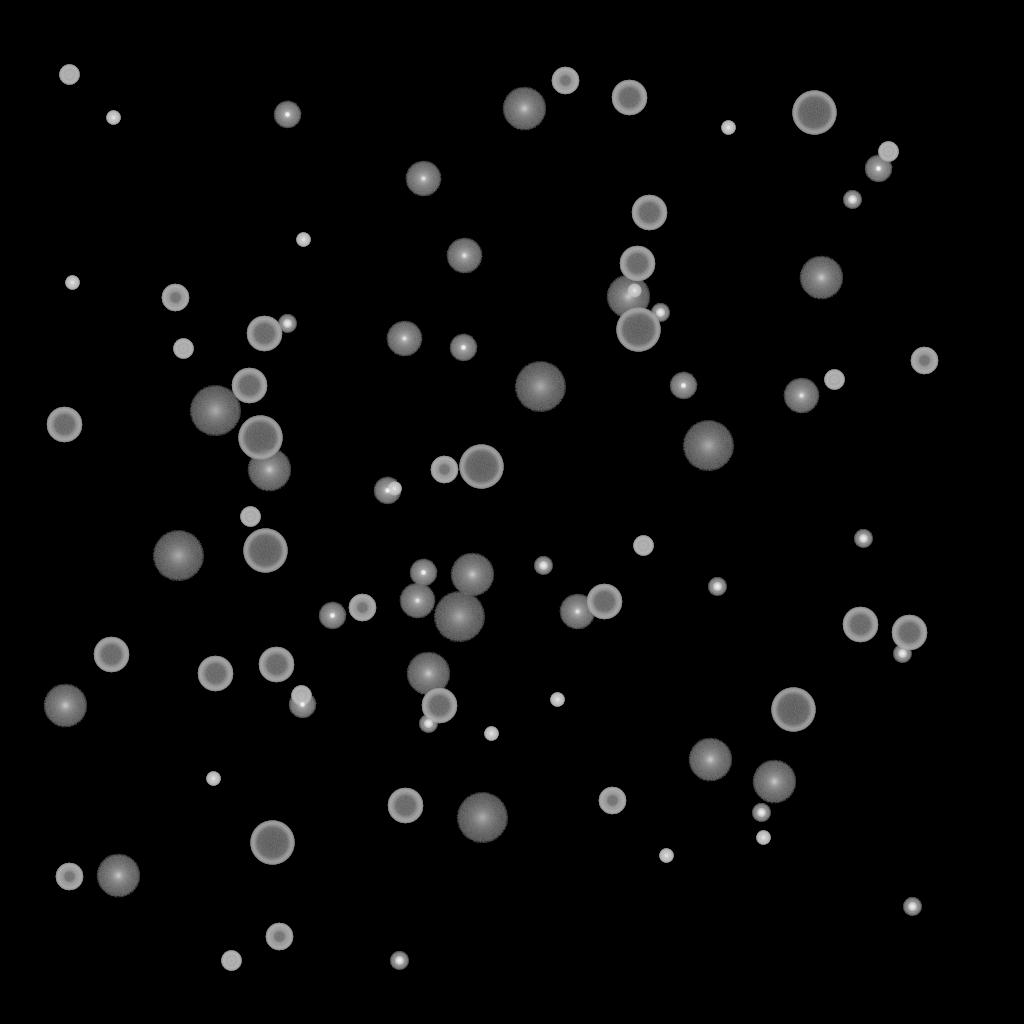depth:-10: (669, 372, 697, 400), (318, 602, 346, 630), (373, 477, 401, 505), (864, 155, 892, 183), (449, 334, 477, 362), (288, 691, 316, 719), (273, 101, 301, 129), (409, 559, 437, 587)
depth:-20: (903, 898, 921, 916), (534, 557, 552, 575), (854, 530, 872, 548), (752, 804, 770, 822), (390, 952, 408, 970), (651, 304, 669, 322), (708, 578, 726, 596), (843, 191, 861, 209), (893, 645, 911, 663), (278, 315, 296, 333), (419, 715, 437, 733)
depth:-30: (296, 233, 310, 247), (721, 121, 735, 135), (387, 482, 401, 496), (627, 284, 641, 298), (484, 727, 498, 741), (659, 849, 673, 863), (550, 693, 564, 707), (65, 276, 79, 290), (106, 111, 120, 125), (756, 831, 770, 845), (206, 772, 220, 786)
depth:-40: (59, 65, 79, 85), (824, 370, 844, 390), (633, 536, 653, 556), (878, 142, 898, 162), (173, 339, 193, 359), (291, 686, 311, 706), (221, 951, 241, 971), (240, 507, 260, 527)
depth:-50: (910, 347, 938, 375), (551, 67, 579, 95), (161, 284, 189, 312), (55, 863, 83, 891), (348, 594, 376, 622), (598, 787, 626, 815), (265, 923, 293, 951), (430, 456, 458, 484)
depth:-60: (46, 407, 82, 443), (619, 246, 655, 282), (387, 788, 423, 824), (842, 607, 878, 643), (891, 615, 927, 651), (631, 195, 667, 231), (197, 656, 233, 692), (246, 316, 282, 352), (586, 584, 622, 620), (258, 647, 294, 683), (611, 80, 647, 116), (93, 637, 129, 673), (231, 368, 267, 404), (421, 688, 457, 724)
depth:-70: (238, 416, 282, 460), (616, 308, 660, 352), (792, 91, 836, 135), (459, 445, 503, 489), (250, 821, 294, 865), (771, 688, 815, 732), (243, 529, 287, 573)
depth:0: (559, 594, 595, 630), (399, 583, 435, 619), (386, 321, 422, 357), (446, 238, 482, 274), (405, 161, 441, 197), (783, 378, 819, 414)
depth:10: (43, 684, 87, 728), (406, 652, 450, 696), (450, 553, 494, 597), (247, 448, 291, 492), (606, 275, 650, 319), (688, 738, 732, 782), (752, 760, 796, 804), (502, 87, 546, 131), (96, 854, 140, 898), (799, 256, 843, 300)
depth:20: (152, 531, 204, 581), (456, 793, 508, 843), (433, 592, 485, 642), (682, 421, 734, 471), (514, 362, 566, 412), (189, 386, 241, 436)
